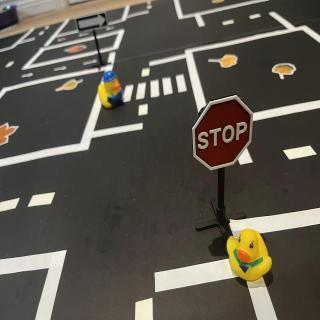duck_regular: (225, 227, 275, 285)
duck_specialty: (96, 69, 128, 109)
road_crosswalk: (121, 72, 192, 106)
road_oneway: (21, 70, 39, 80), (81, 60, 101, 68), (54, 66, 71, 75)
sign_oneway_right: (79, 14, 110, 32)
sign_stop: (193, 95, 255, 167)
